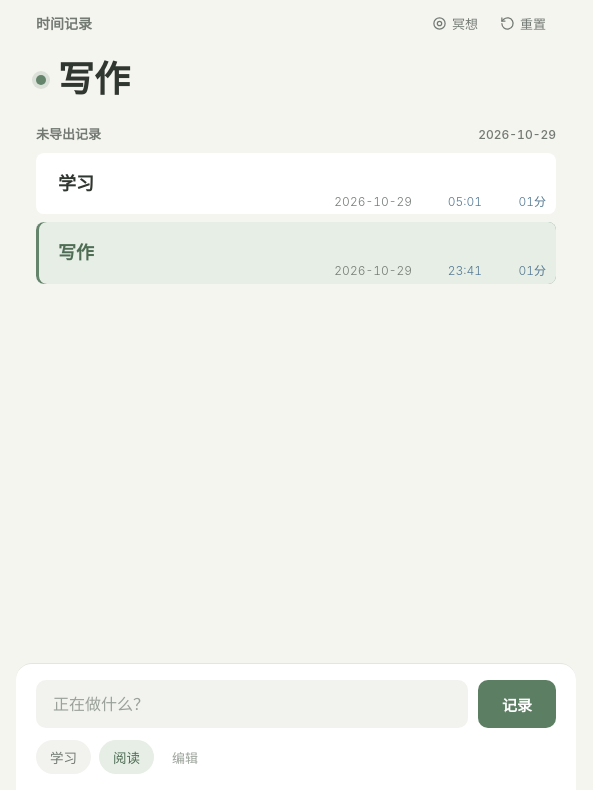
Test case: 时间记录界面 › 云端写入失败时回滚本地记录并提示错误
In the field named "活动名称": (252, 704) [36, 680, 468, 728], type "写周报"
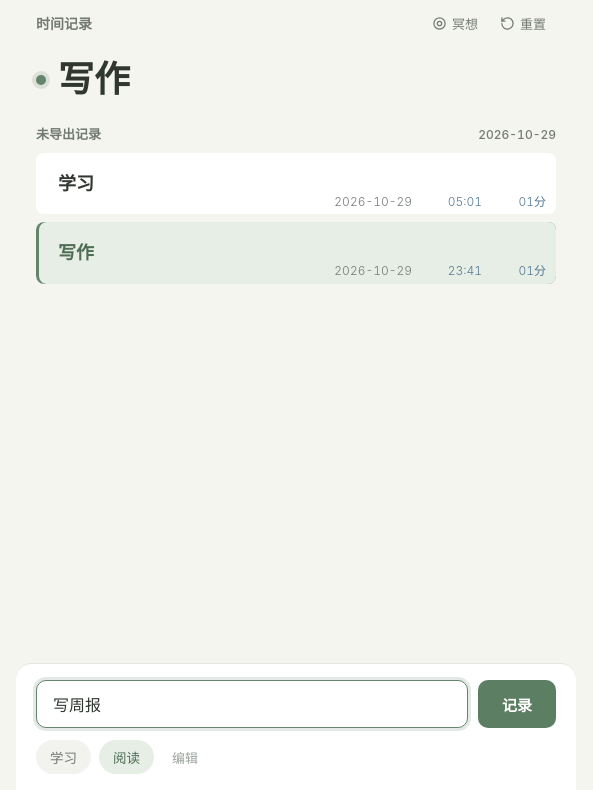
Click the button "记录": (517, 704) [478, 680, 556, 728]
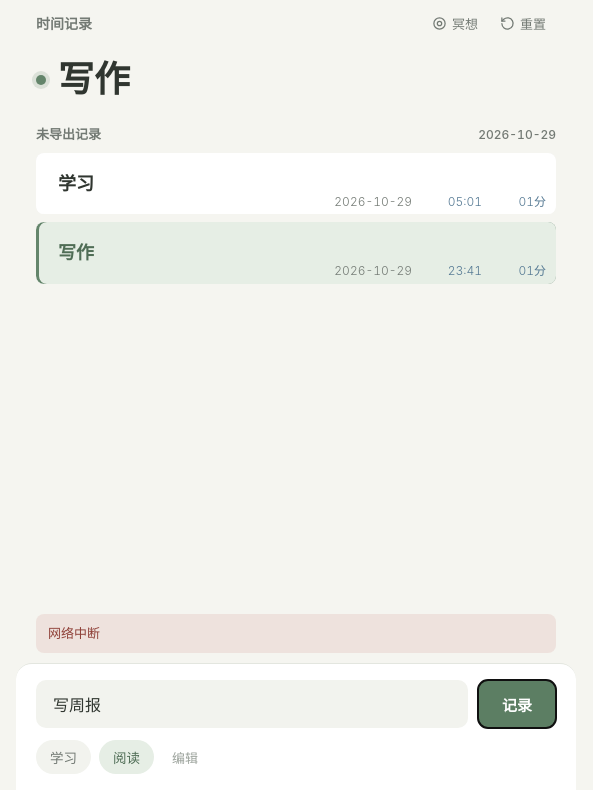
Expected: the message reads "网络中断", [48, 624, 100, 640]
